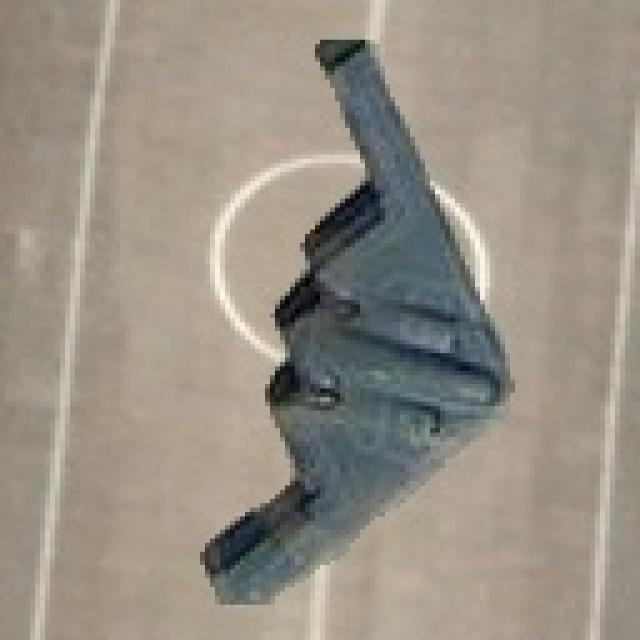B-2_TopDown: (185, 27, 520, 604)
